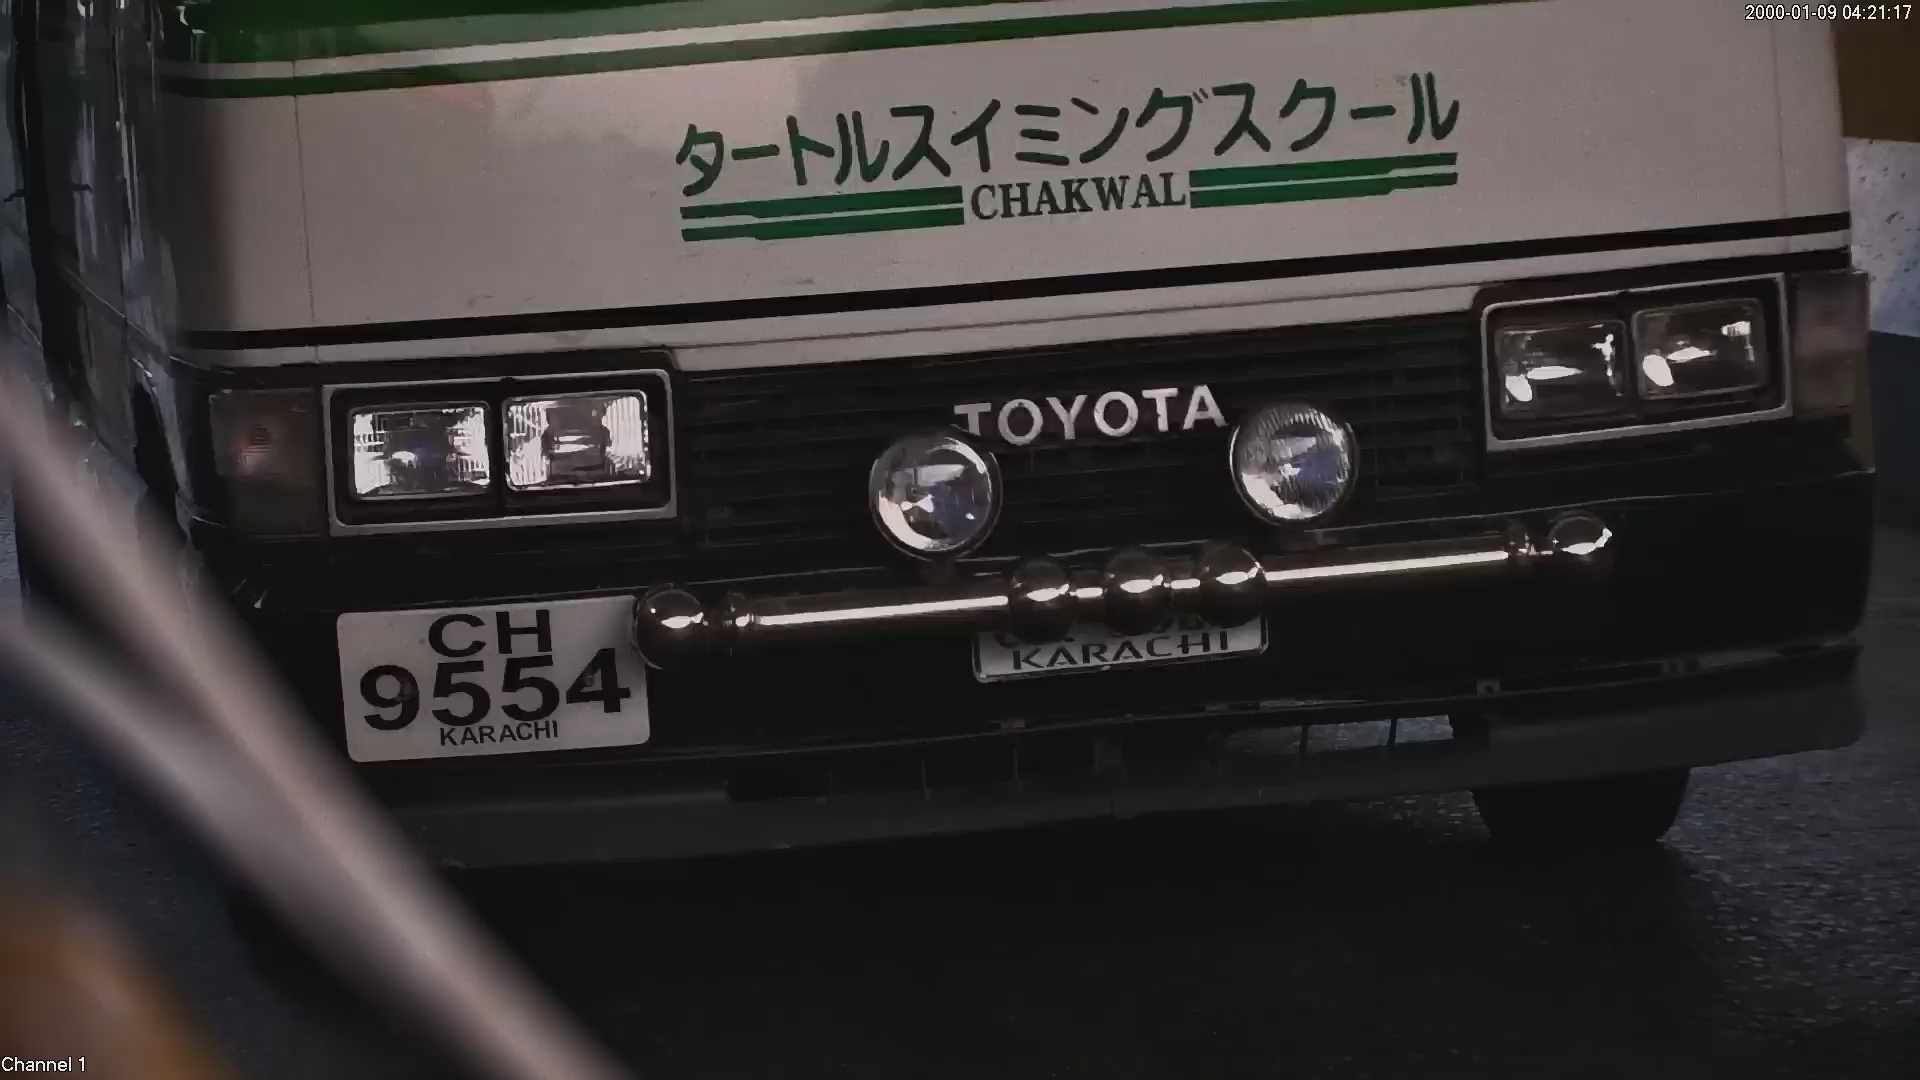Number_Plate: (306, 590, 667, 759)
Undefined: (647, 57, 1484, 236), (884, 381, 1347, 546), (321, 377, 691, 529), (1497, 288, 1808, 446), (954, 575, 1293, 681)
